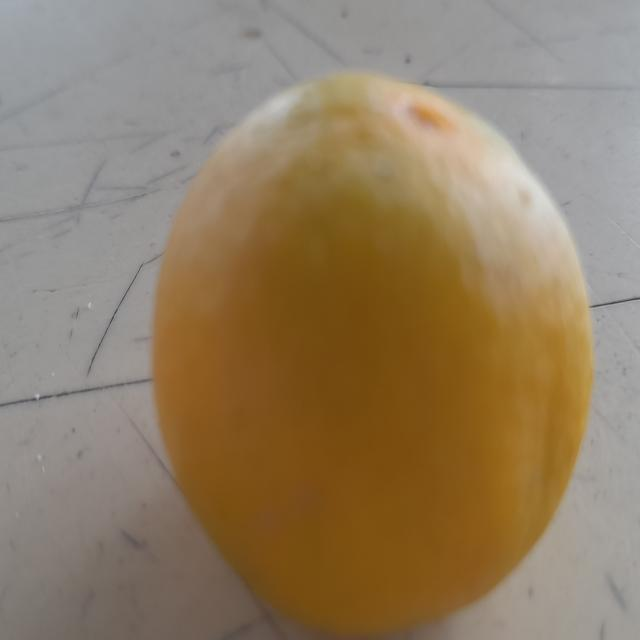greening: (142, 70, 588, 640)
